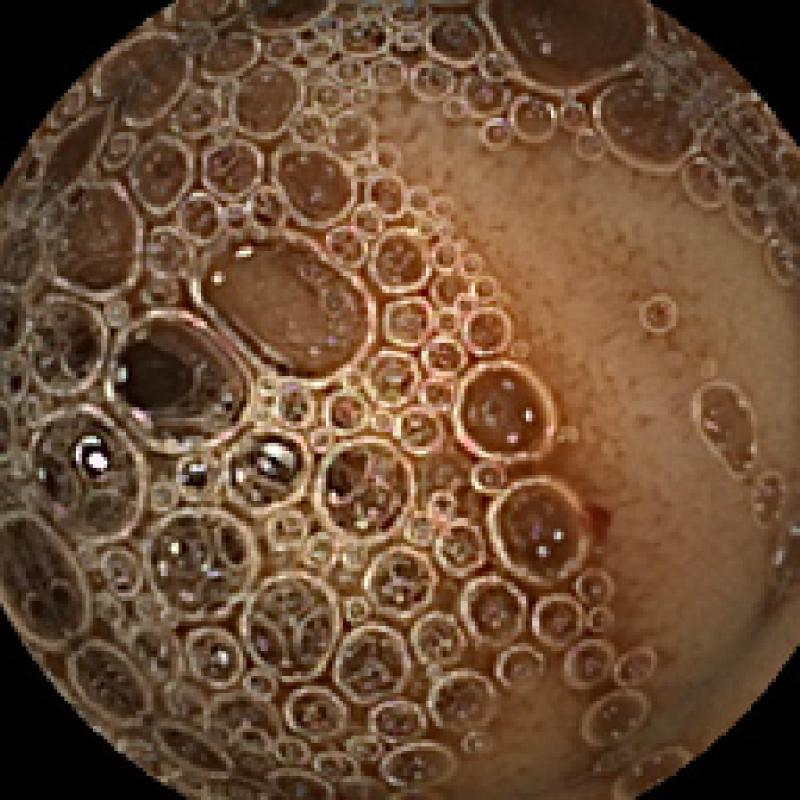bleeding: (107, 339, 200, 418), (586, 496, 614, 548)
